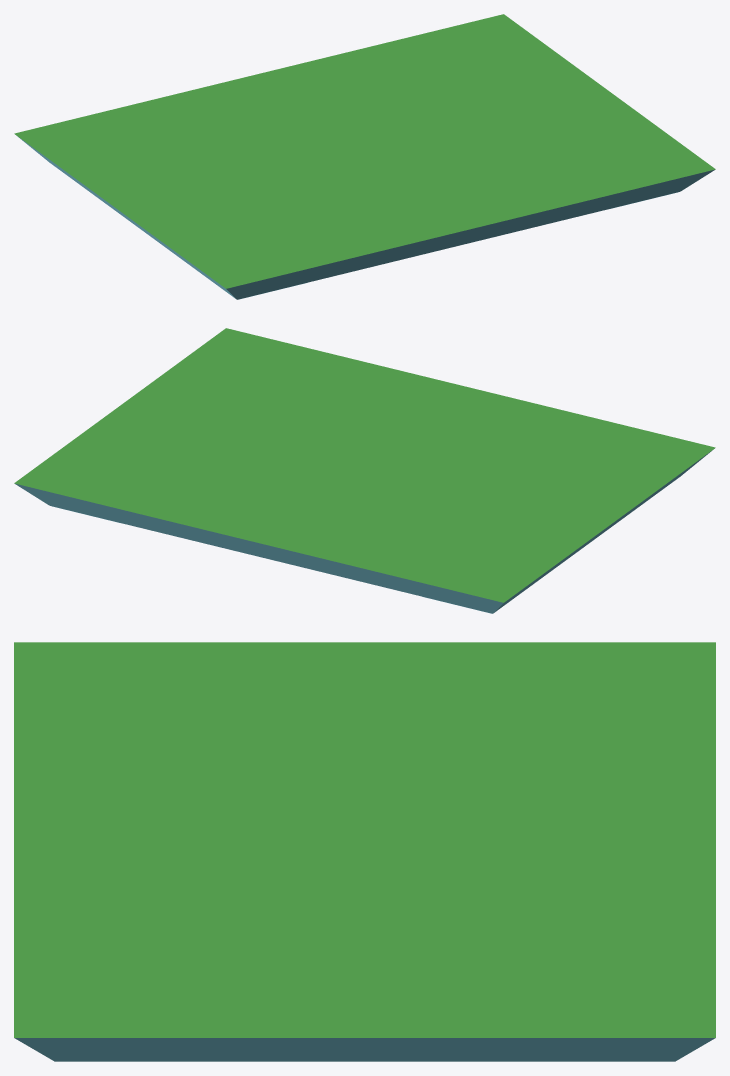
The picture shows the model from 3 angles, top to bottom: view 1: azimuth 30°, elevation 25°; view 2: azimuth 150°, elevation 25°; view 3: azimuth 270°, elevation 25°; orthographic projection. The views are drawn at different scales.
Parts seen in each view (by area): view 1: DD02; view 2: DD02; view 3: DD02.
Boxes of the visible parts, x1,y1,x2,y2 form: DD02: [14, 14, 715, 299]; DD02: [14, 328, 715, 613]; DD02: [14, 642, 715, 1061].
Bounding box in the file's own units: 240 × 180 × 13.93.
